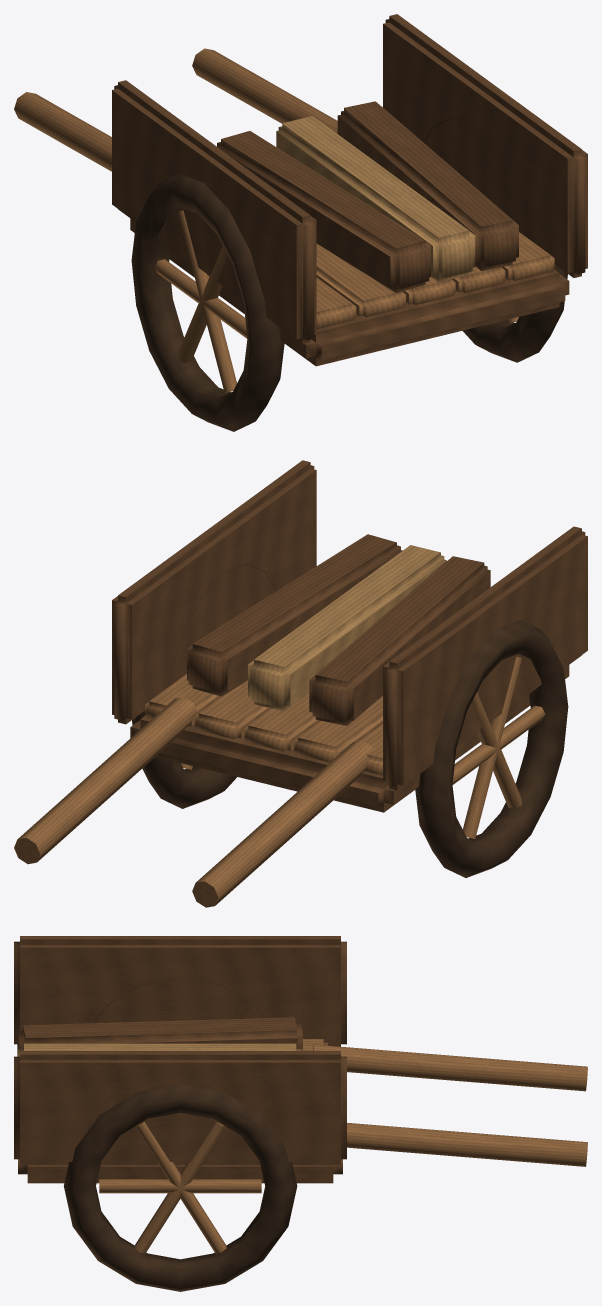
Rendered from handcart.fbx.
The picture shows the model from 3 angles, top to bottom: view 1: azimuth 30°, elevation 25°; view 2: azimuth 150°, elevation 25°; view 3: azimuth 270°, elevation 25°; orthographic projection. The views are drawn at different scales.
Visible parts, largest first — view 1: handcart__Geometry; view 2: handcart__Geometry; view 3: handcart__Geometry.
Boxes of the visible parts, x1,y1,x2,y2 form: handcart__Geometry: (14, 14, 587, 431); handcart__Geometry: (14, 460, 587, 907); handcart__Geometry: (14, 936, 587, 1291).
Size of the model in its own units: 1.56 by 1.28 by 2.83.
